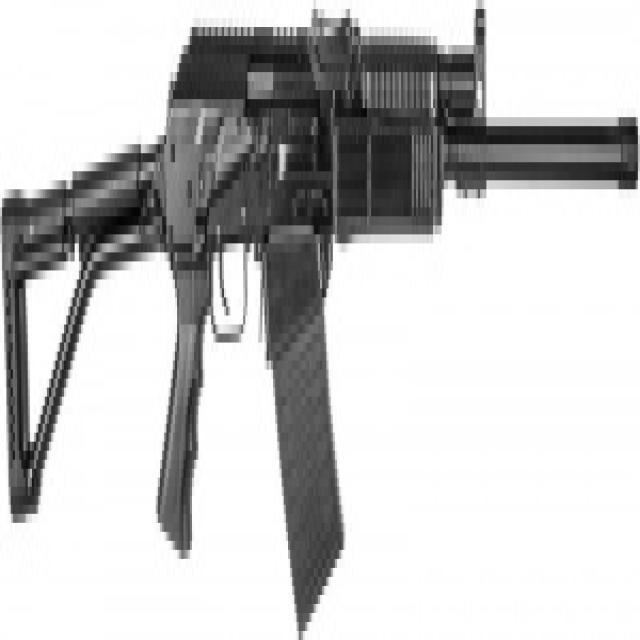rifle: (1, 11, 640, 640)
